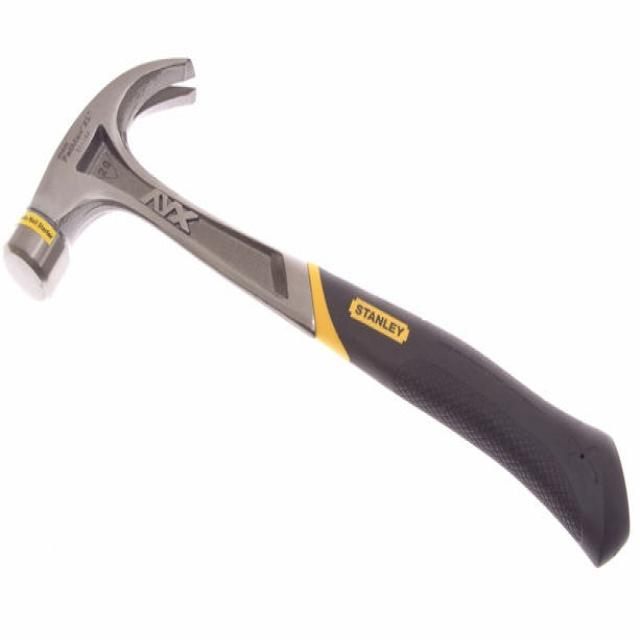hammer: (10, 22, 640, 588)
